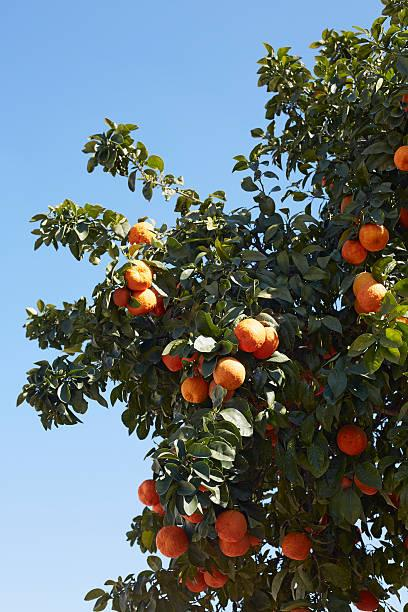orange: (173, 313, 297, 412), (147, 499, 282, 579), (92, 265, 159, 322), (198, 507, 255, 567), (344, 254, 389, 323), (225, 319, 285, 362)
